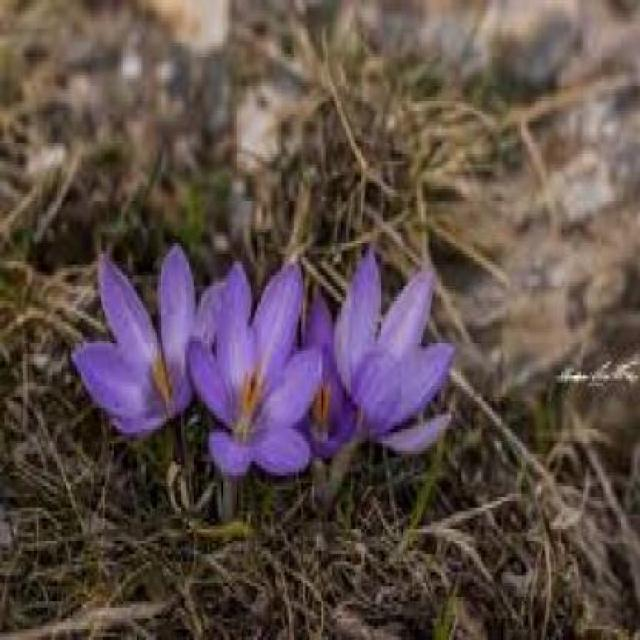saffron open: (190, 267, 321, 478), (73, 247, 197, 438), (336, 250, 453, 451)
